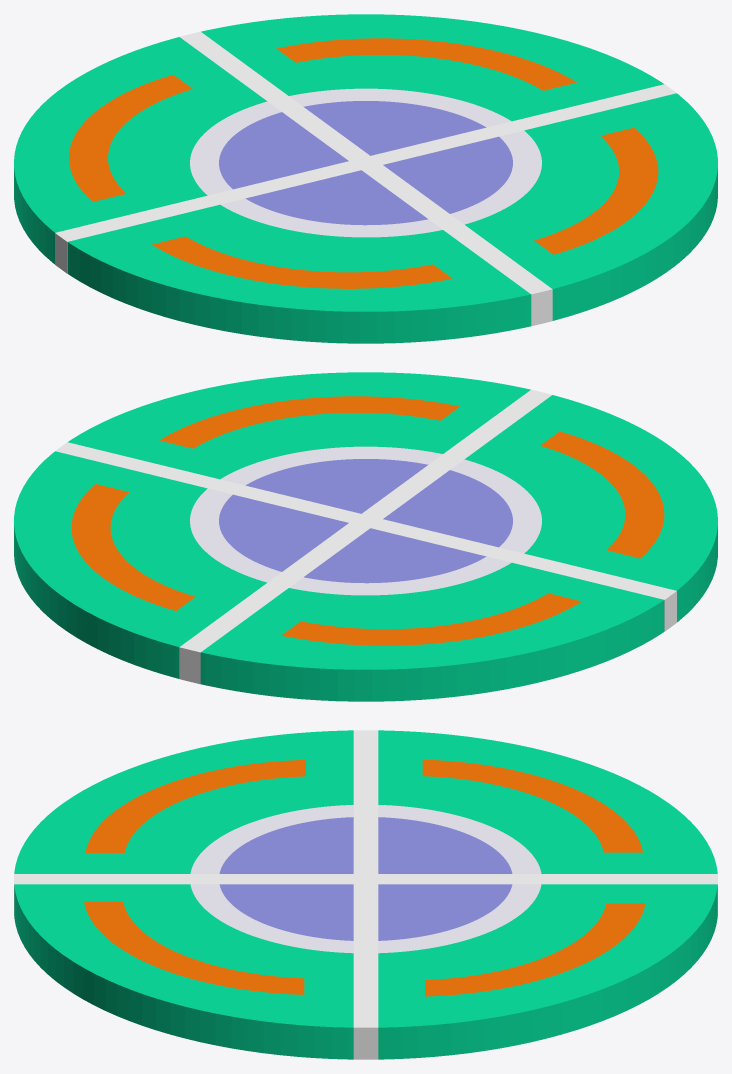
Rendered from gamearena.glb.
The picture shows the model from 3 angles, top to bottom: view 1: azimuth 30°, elevation 25°; view 2: azimuth 150°, elevation 25°; view 3: azimuth 270°, elevation 25°; orthographic projection.
Parts seen in each view (by area): view 1: Cylinder, Cylinder.001, Circle.001, Cube.001, Circle; view 2: Cylinder, Cylinder.001, Circle.001, Cube.001, Circle; view 3: Cylinder, Cylinder.001, Circle.001, Cube.001, Circle.
Boxes of the visible parts, left/top/right/bottom form: Cylinder: left=14, top=14, right=717, bottom=343; Cylinder.001: left=219, top=101, right=512, bottom=225; Circle.001: left=69, top=38, right=658, bottom=288; Cube.001: left=55, top=31, right=676, bottom=326; Circle: left=190, top=88, right=541, bottom=237; Cylinder: left=14, top=372, right=717, bottom=701; Cylinder.001: left=219, top=459, right=512, bottom=583; Circle.001: left=71, top=396, right=664, bottom=645; Cube.001: left=55, top=389, right=676, bottom=684; Circle: left=190, top=446, right=541, bottom=595; Cylinder: left=14, top=730, right=717, bottom=1059; Cylinder.001: left=219, top=817, right=512, bottom=940; Circle.001: left=84, top=759, right=645, bottom=996; Cube.001: left=14, top=730, right=717, bottom=1059; Circle: left=190, top=805, right=541, bottom=953.
Size of the model in its own units: 40 by 2 by 40.
